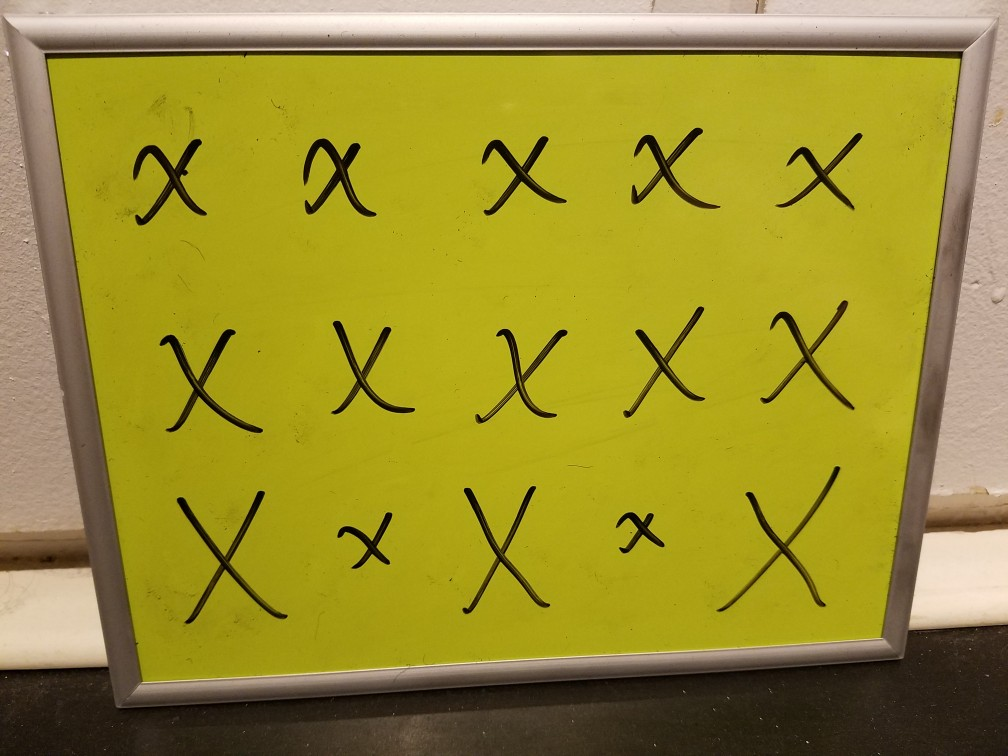x: (144, 313, 273, 451), (732, 457, 842, 613), (165, 487, 289, 617), (273, 122, 405, 242), (440, 479, 546, 621), (465, 117, 585, 242), (758, 295, 863, 427), (122, 120, 223, 256), (609, 115, 727, 224), (617, 299, 706, 422), (329, 318, 412, 433), (480, 312, 556, 429), (779, 123, 864, 213), (329, 505, 403, 574), (605, 495, 664, 558)
